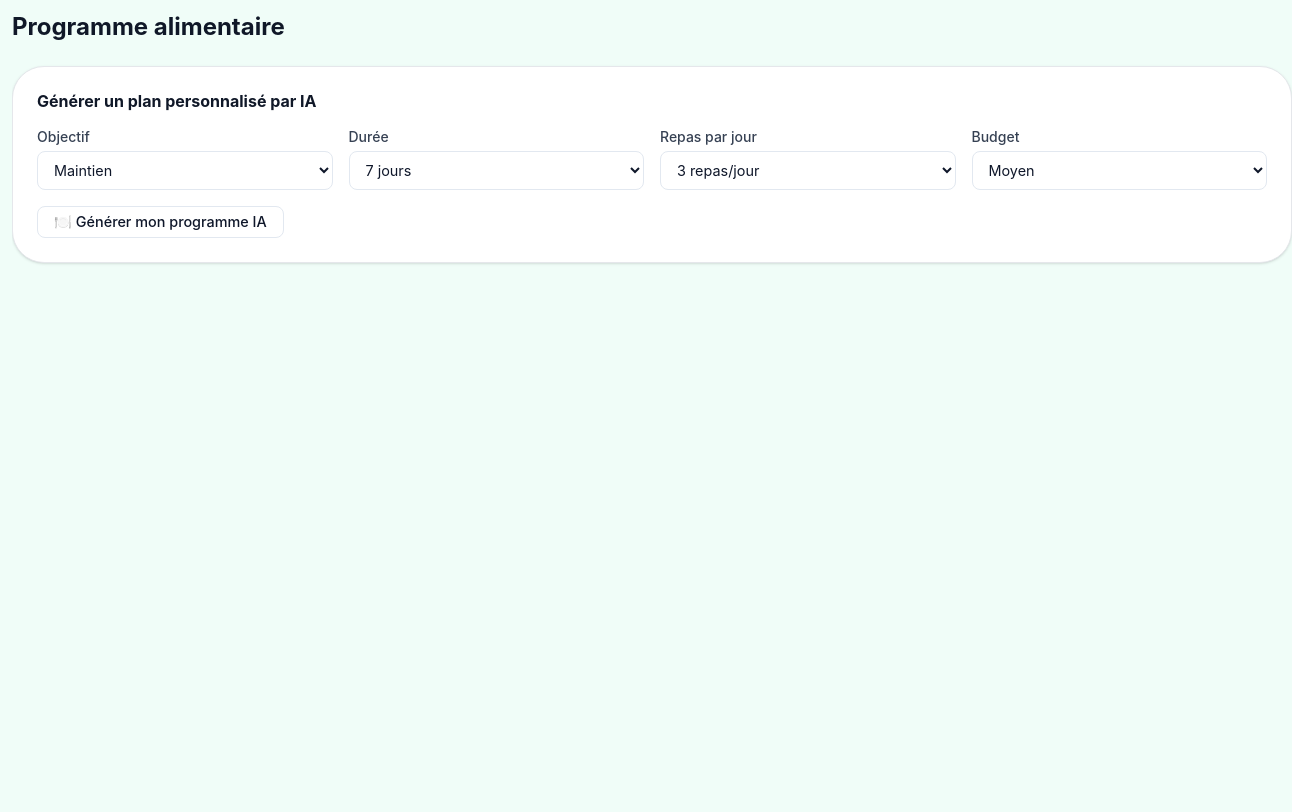
it: ProgramPage › shows demo badge when _demo is true
Click the button "🍽️ Générer mon programme IA" at (160, 222), box [37,206,284,238]
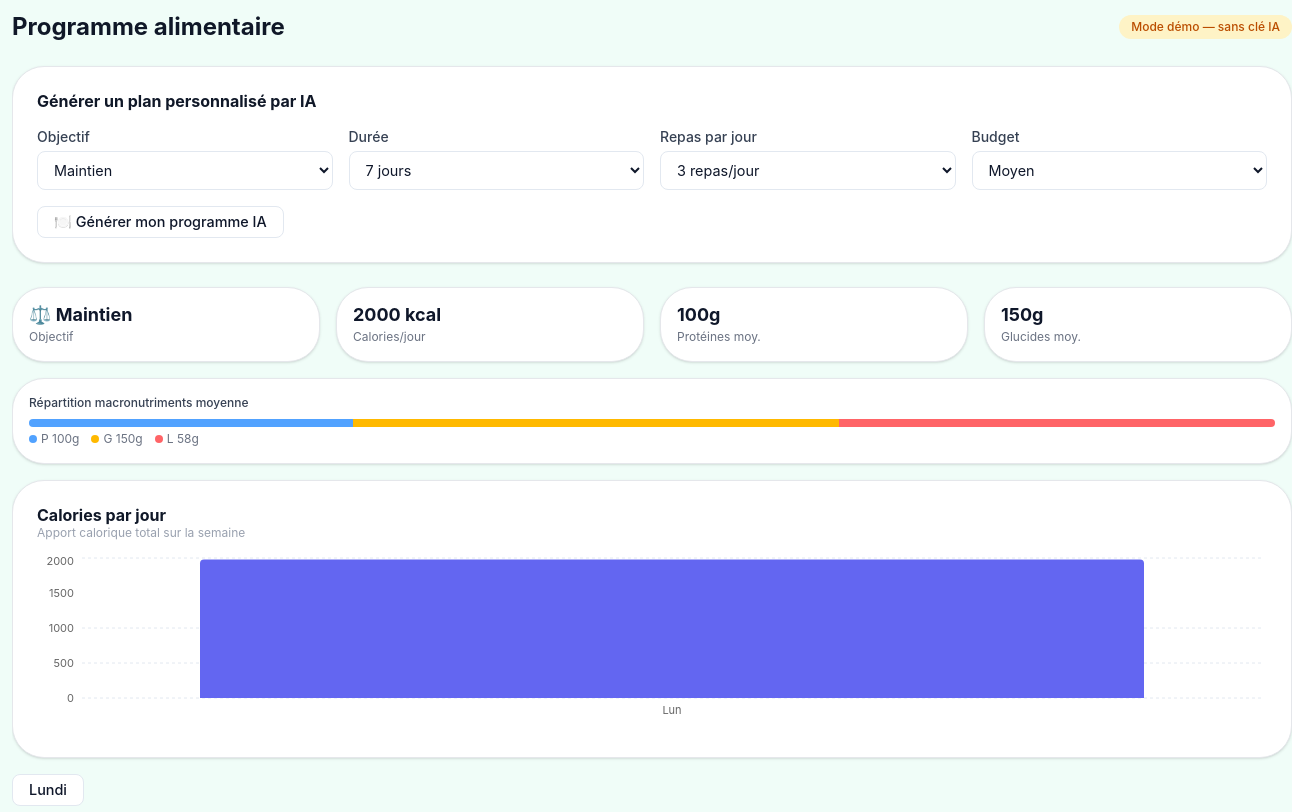
Now the text "Mode démo — sans clé IA" is shown, box [1119,15,1291,39]
